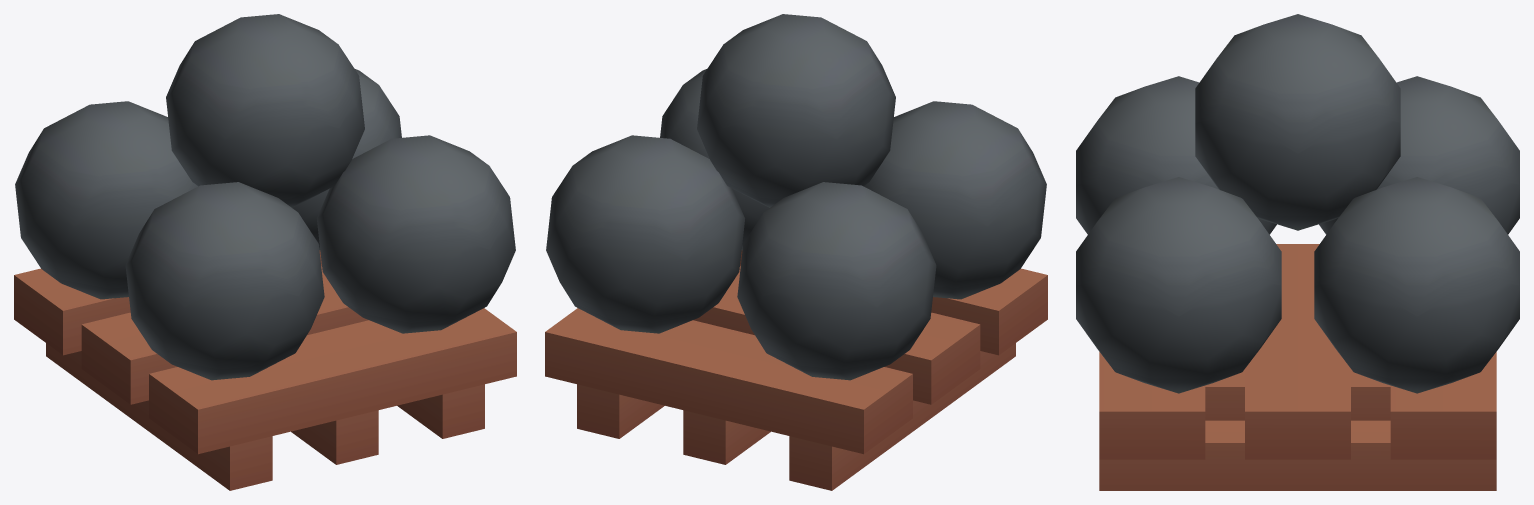
The model's file is hex_cannonballs.glb.
3 renders of one model, left to right at view 1: azimuth 30°, elevation 25°; view 2: azimuth 150°, elevation 25°; view 3: azimuth 270°, elevation 25°, orthographic. The views are drawn at different scales.
Parts seen in each view (by area): view 1: cannonball_pallet; view 2: cannonball_pallet; view 3: cannonball_pallet.
Part boxes in pixels (left/top/right/bottom): cannonball_pallet: left=14, top=14, right=516, bottom=490; cannonball_pallet: left=545, top=14, right=1047, bottom=490; cannonball_pallet: left=1076, top=14, right=1519, bottom=490.
Size of the model in its own units: 0.3432 by 0.3287 by 0.3352.
Materials: 1 (1 with a texture image).
